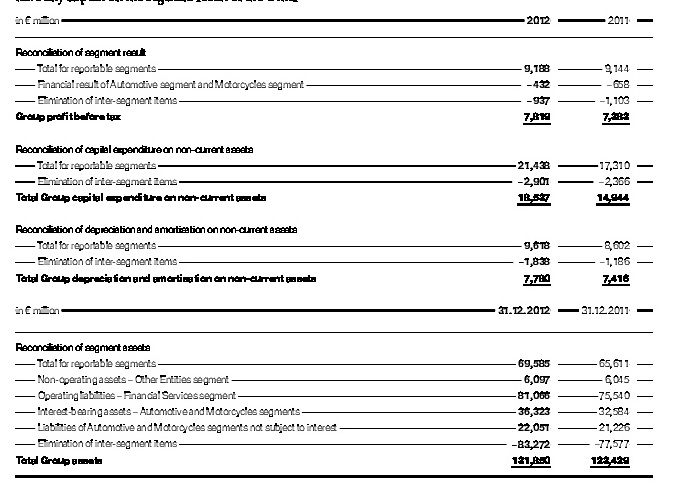table: (0, 0, 682, 493)
